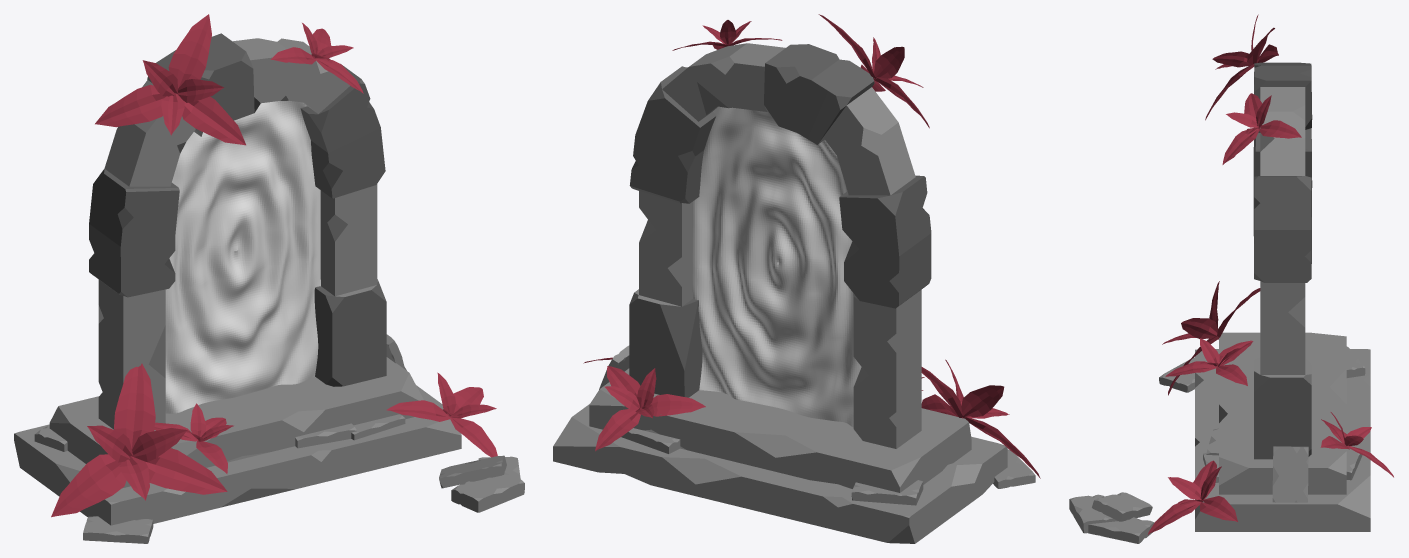
Rendered from Portal.fbx.
3 renders of one model, left to right at view 1: azimuth 30°, elevation 25°; view 2: azimuth 150°, elevation 25°; view 3: azimuth 270°, elevation 25°, orthographic. The views are drawn at different scales.
Parts seen in each view (by area): view 1: Portal; view 2: Portal; view 3: Portal.
Part boxes in pixels (x1=…): Portal: x1=14, y1=14, x2=524, y2=543; Portal: x1=553, y1=14, x2=1040, y2=543; Portal: x1=1069, y1=14, x2=1393, y2=543.
Size of the model in its own units: 1426 by 1404 by 1003.
